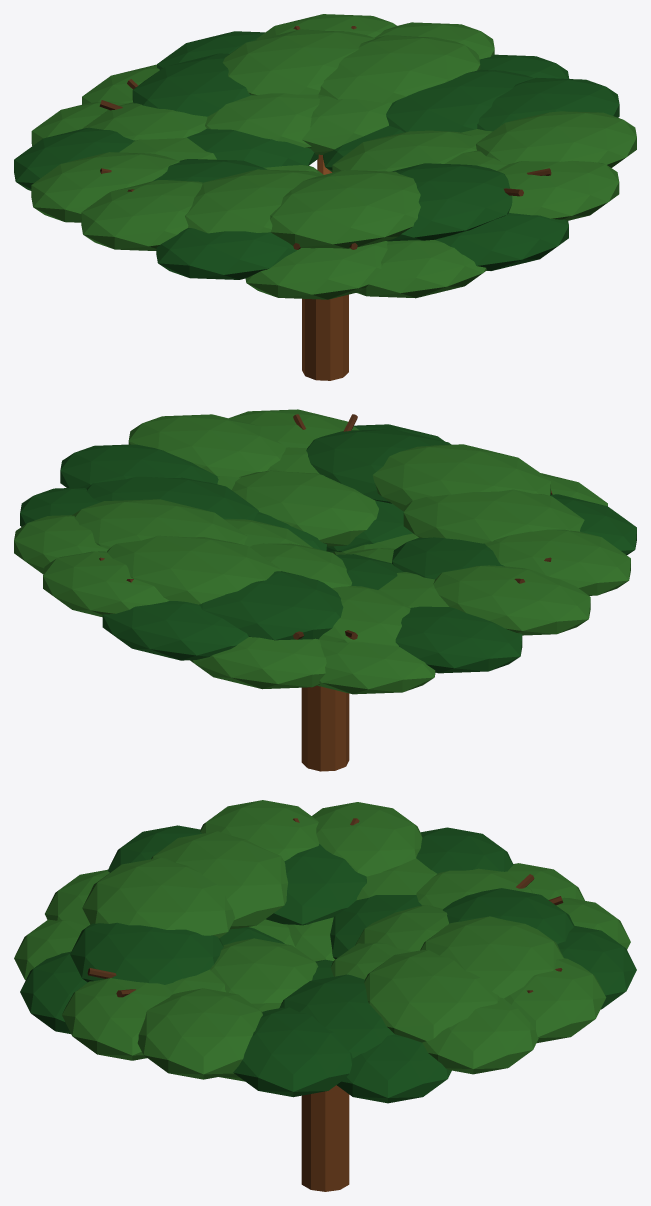
File: PohonTrembesi.obj
3 renders of one model, top to bottom at view 1: azimuth 30°, elevation 25°; view 2: azimuth 150°, elevation 25°; view 3: azimuth 270°, elevation 25°, orthographic. The views are drawn at different scales.
Visible parts, largest first — view 1: CANOPY_1_8, CANOPY_1_1, CANOPY_2_14, CANOPY_1_2, CANOPY_1_9, CANOPY_2_8, CANOPY_2_7, CANOPY_2_13, CANOPY_2_10, CANOPY_1_7, CANOPY_2_9, CANOPY_1_0 (+21 smaller); view 2: CANOPY_2_7, CANOPY_1_2, CANOPY_1_8, CANOPY_1_7, CANOPY_0_7, CANOPY_1_3, CANOPY_2_14, CANOPY_2_6, CANOPY_2_8, CANOPY_2_3, CANOPY_1_1, CANOPY_2_2 (+21 smaller); view 3: CANOPY_2_14, CANOPY_1_8, CANOPY_1_1, CANOPY_2_15, CANOPY_1_9, CANOPY_1_7, CANOPY_1_2, CANOPY_2_13, CANOPY_2_7, CANOPY_2_1, CANOPY_2_2, CANOPY_2_0 (+23 smaller).
Boxes of the visible parts, box(x1,y1,x2,y2) form: CANOPY_1_8: box(270, 170, 420, 248); CANOPY_1_1: box(318, 35, 480, 102); CANOPY_2_14: box(476, 111, 636, 167); CANOPY_1_2: box(222, 29, 374, 95); CANOPY_1_9: box(386, 163, 512, 241); CANOPY_2_8: box(81, 180, 202, 250); CANOPY_2_7: box(31, 152, 179, 222); CANOPY_2_13: box(497, 160, 619, 220); CANOPY_2_10: box(245, 241, 387, 299); CANOPY_1_7: box(185, 169, 322, 233); CANOPY_2_9: box(156, 228, 296, 279); CANOPY_1_0: box(386, 69, 533, 132); CANOPY_2_7: box(433, 565, 590, 635); CANOPY_1_2: box(107, 535, 280, 604); CANOPY_1_8: box(372, 444, 550, 510); CANOPY_1_7: box(403, 489, 584, 543); CANOPY_0_7: box(231, 470, 378, 546); CANOPY_1_3: box(199, 571, 343, 640); CANOPY_2_14: box(128, 414, 285, 477); CANOPY_2_6: box(395, 606, 522, 673); CANOPY_2_8: box(485, 529, 630, 595); CANOPY_2_3: box(102, 601, 248, 660); CANOPY_1_1: box(72, 499, 247, 549); CANOPY_2_2: box(43, 551, 169, 617); CANOPY_2_14: box(137, 988, 262, 1079); CANOPY_1_8: box(82, 857, 234, 938); CANOPY_1_1: box(364, 950, 499, 1042); CANOPY_2_15: box(233, 1007, 352, 1097); CANOPY_1_9: box(70, 922, 223, 984); CANOPY_1_7: box(151, 831, 287, 929); CANOPY_1_2: box(420, 916, 563, 998); CANOPY_2_13: box(62, 978, 173, 1060); CANOPY_2_7: box(312, 802, 422, 876); CANOPY_2_1: box(422, 997, 538, 1074); CANOPY_2_2: box(504, 958, 606, 1043); CANOPY_2_0: box(337, 1034, 451, 1103).
Bounding box in the file's own units: 11.36 × 4.97 × 10.5.
